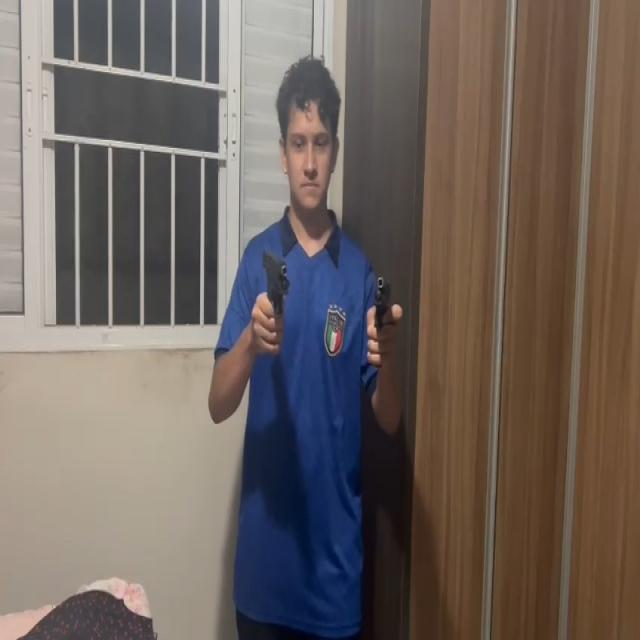guns: (261, 250, 290, 310), (373, 273, 391, 320)
